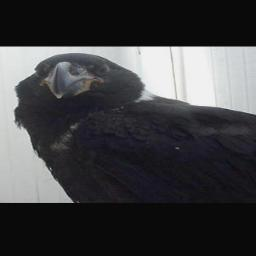Crow: (10, 52, 256, 202)
